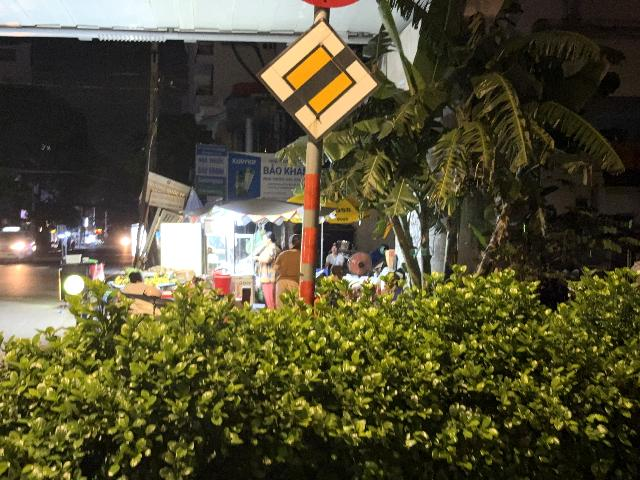het-duong-uu-tien: (255, 17, 383, 144)
